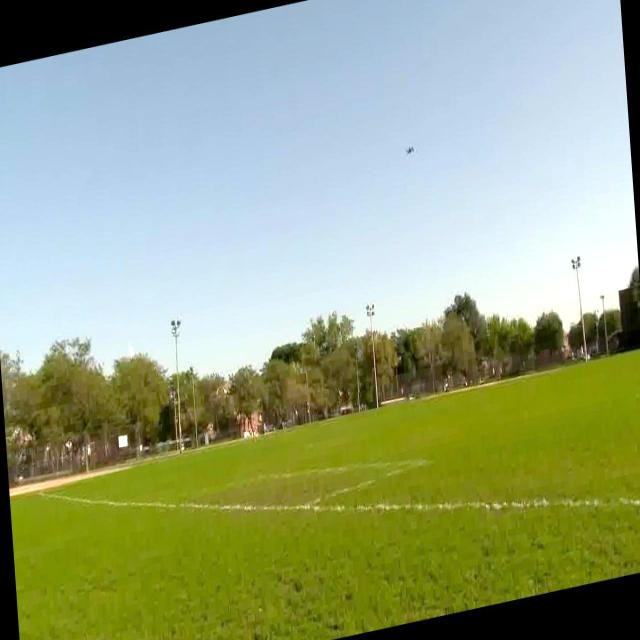drone: (401, 136, 419, 166)
